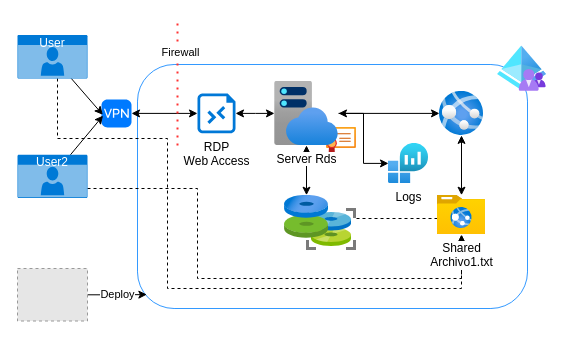
Image size: 564x338. Some labels were removed from this diagram. Grey dashed boxes stand in for pictures. The shapes that lost their labels are listed below. From the top down, each one's centre as x and y in pixels, then its label:
At [521,68]: "AD B2C".
At [461,113]: "App´s".
At [306,216]: "Disk".
